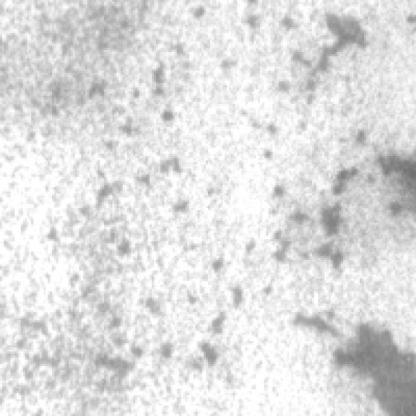pitted_surface: (3, 0, 287, 410), (289, 0, 416, 410)
